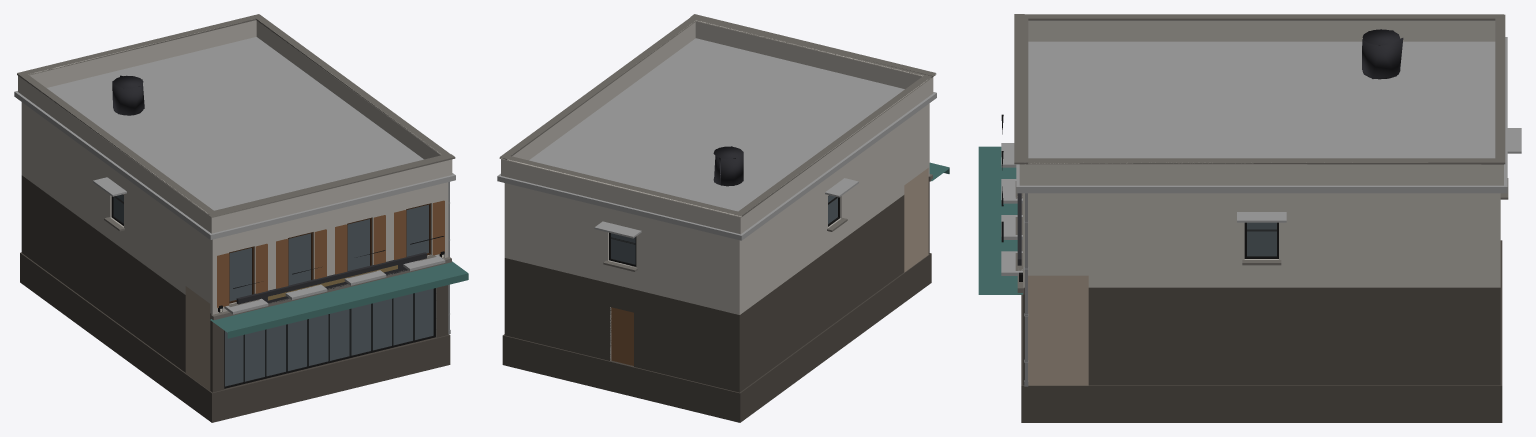
Rendered from shop_house_10x14_2_far.glb.
The picture shows the model from 3 angles, left to right: view 1: azimuth 30°, elevation 25°; view 2: azimuth 150°, elevation 25°; view 3: azimuth 270°, elevation 25°; orthographic projection. The views are drawn at different scales.
Parts seen in each view (by area): view 1: shop_house_10x14_2; view 2: shop_house_10x14_2; view 3: shop_house_10x14_2.
Part boxes in pixels (bbox=[...]): shop_house_10x14_2: bbox=[14, 14, 468, 422]; shop_house_10x14_2: bbox=[497, 14, 949, 422]; shop_house_10x14_2: bbox=[978, 14, 1521, 422].
Size of the model in its own units: 11.22 by 8.95 by 15.92.
